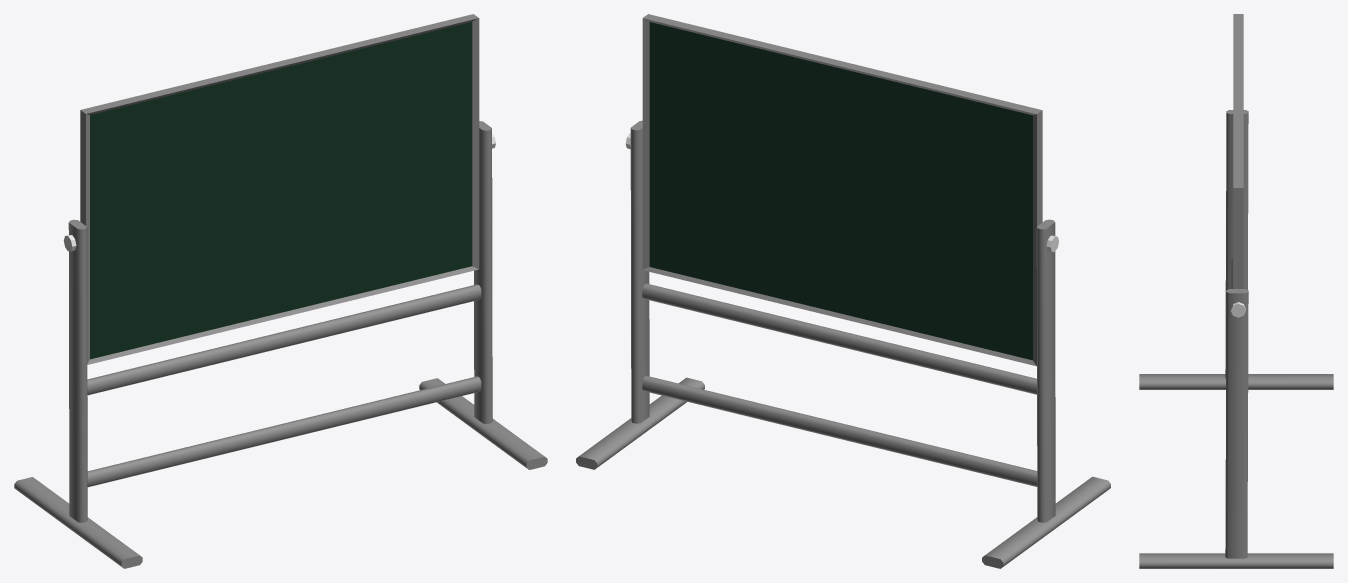
File: BlackBoard.fbx
3 renders of one model, left to right at view 1: azimuth 30°, elevation 25°; view 2: azimuth 150°, elevation 25°; view 3: azimuth 270°, elevation 25°, orthographic. The views are drawn at different scales.
Visible parts, largest first — view 1: Plane, Stand; view 2: Plane, Stand; view 3: Stand, Plane.
Boxes of the visible parts, box(x1,y1,x2,y2) form: Plane: box(80, 14, 479, 364); Stand: box(14, 121, 547, 568); Plane: box(642, 14, 1042, 366); Stand: box(576, 120, 1110, 568); Stand: box(1139, 110, 1333, 568); Plane: box(1233, 14, 1243, 288).
Bounding box in the file's own units: 197 × 183 × 86.09.
